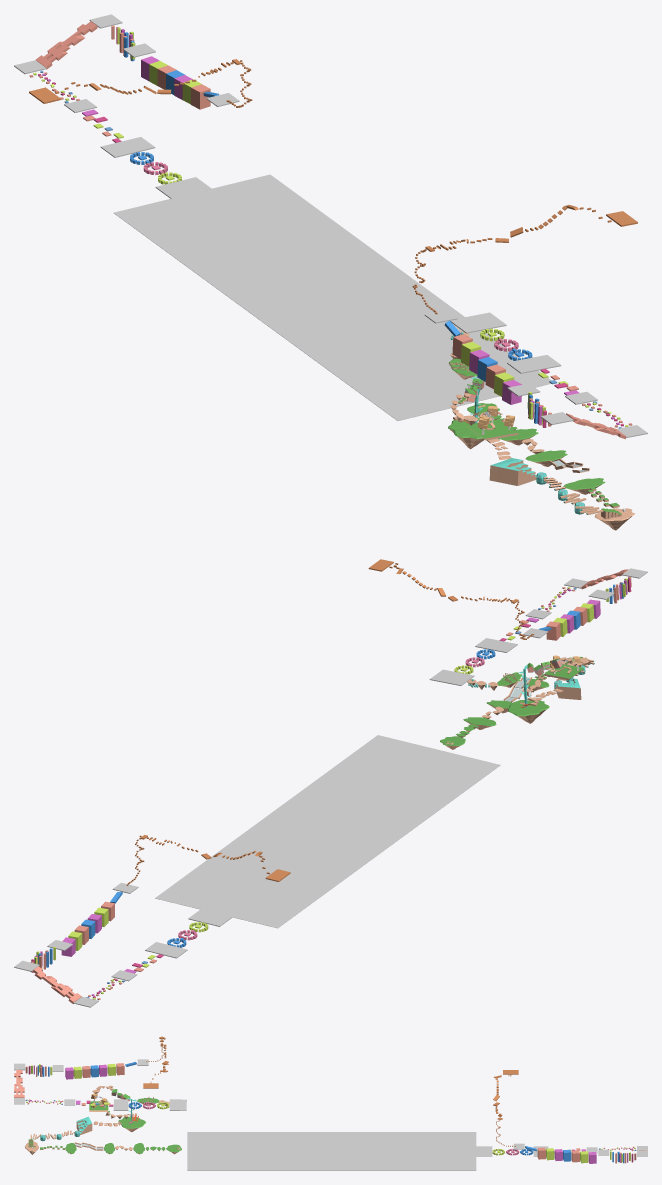
3 renders of one model, top to bottom at view 1: azimuth 30°, elevation 25°; view 2: azimuth 150°, elevation 25°; view 3: azimuth 270°, elevation 25°, orthographic. The views are drawn at different scales.
Parts seen in each view (by area): view 1: Box, Cube061, Mesh_cliff_stepsCornerInner_rock; view 2: Box; view 3: Box, Cube061, Vert028, blockDirt081.
Part boxes in pixels (<box>): Box: <box>113,174,551,420</box>; Cube061: <box>35,21,97,69</box>; Mesh_cliff_stepsCornerInner_rock: <box>489,460,536,485</box>; Box: <box>155,735,500,928</box>; Box: <box>187,1132,476,1170</box>; Cube061: <box>14,1069,24,1097</box>; Vert028: <box>118,1116,145,1128</box>; blockDirt081: <box>169,1099,186,1110</box>.
Bounding box in the file's own units: 884 × 737 × 3991.
Materials: 62 (1 with a texture image).
